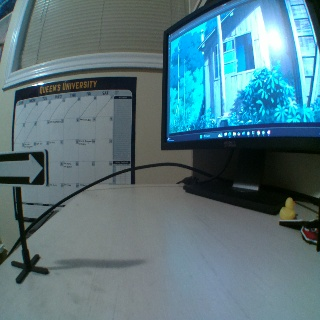sign_oneway_right: (1, 152, 48, 186)
